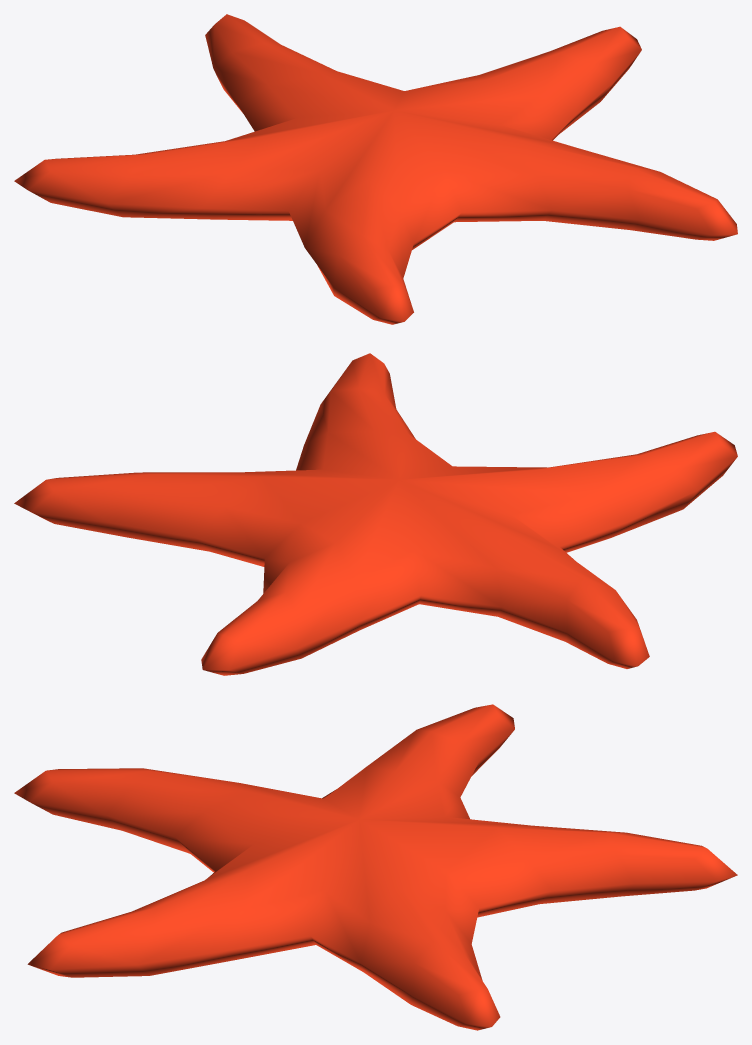
File: StarfishB.fbx
3 renders of one model, top to bottom at view 1: azimuth 30°, elevation 25°; view 2: azimuth 150°, elevation 25°; view 3: azimuth 270°, elevation 25°, orthographic. The views are drawn at different scales.
Visible parts, largest first — view 1: StarfishB; view 2: StarfishB; view 3: StarfishB.
Boxes of the visible parts, bbox=[...] form: StarfishB: bbox=[14, 14, 737, 324]; StarfishB: bbox=[14, 353, 737, 675]; StarfishB: bbox=[14, 704, 737, 1030].
Bounding box in the file's own units: 29.89 × 3.34 × 29.62.
Materials: 1 (1 with a texture image).
